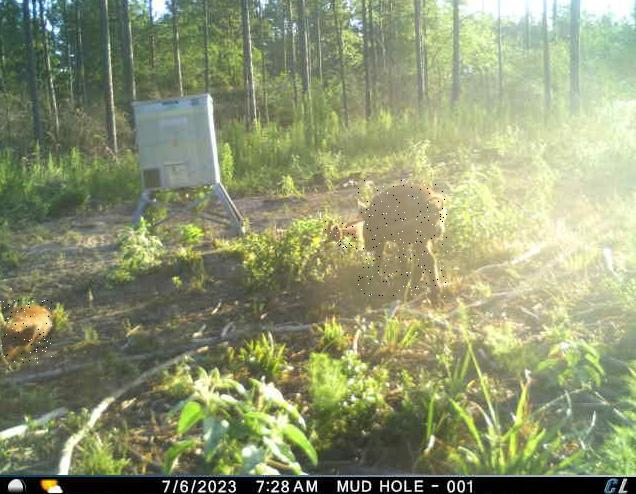Hog: (359, 181, 449, 298), (0, 299, 53, 364), (324, 214, 366, 252)
